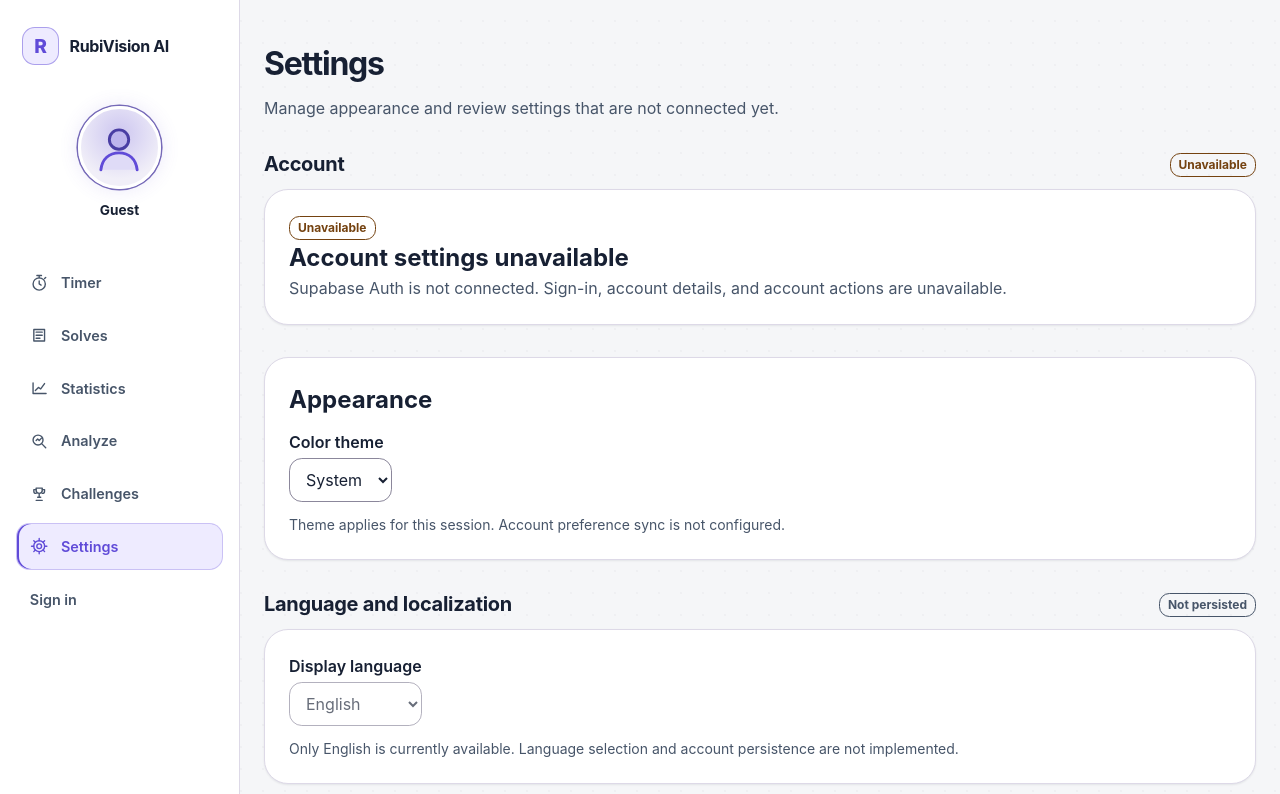
application shell and routes › keeps the Timer shell within the existing dark theme provider
This screenshot has width=1280, height=794.
Select "Dark" in the dropdown labelled "Color theme": (340, 480) x1=289 y1=458 x2=392 y2=502
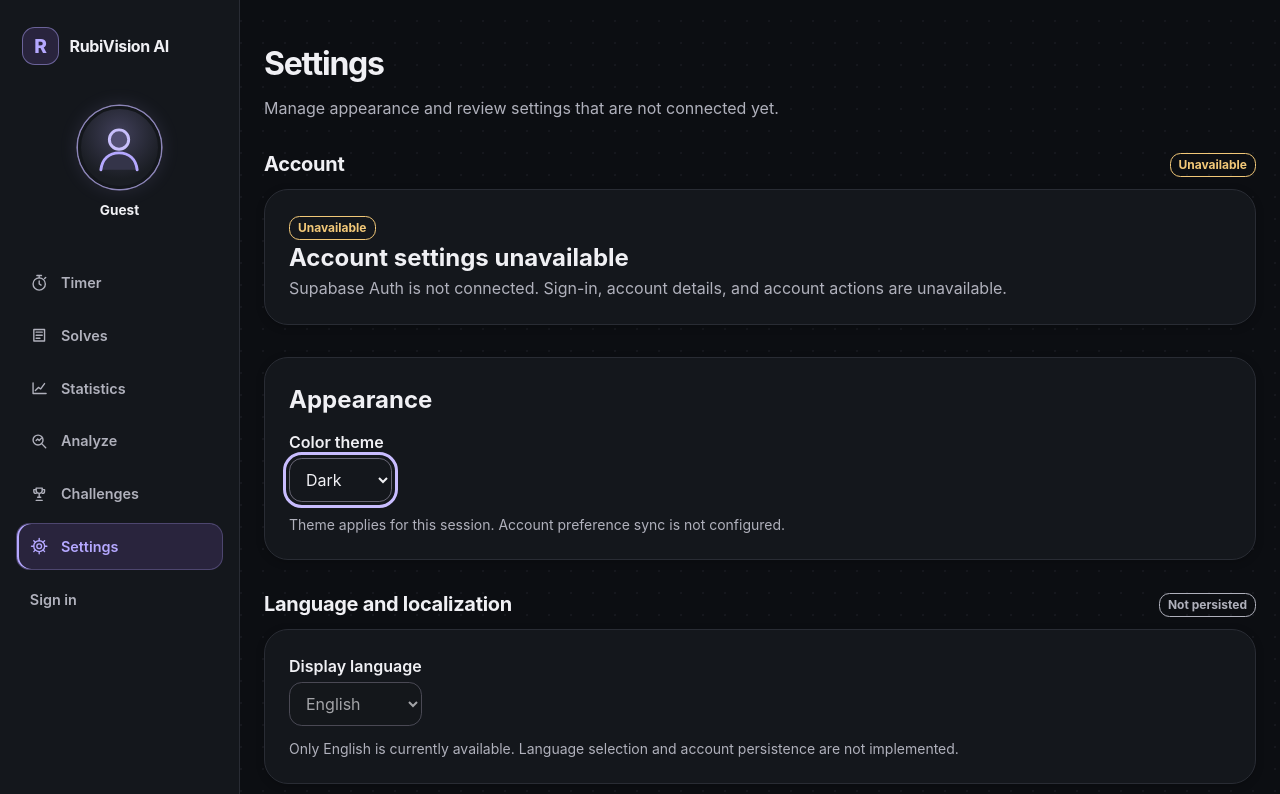
Click the link "Timer": (66, 283) x1=30 y1=274 x2=101 y2=292
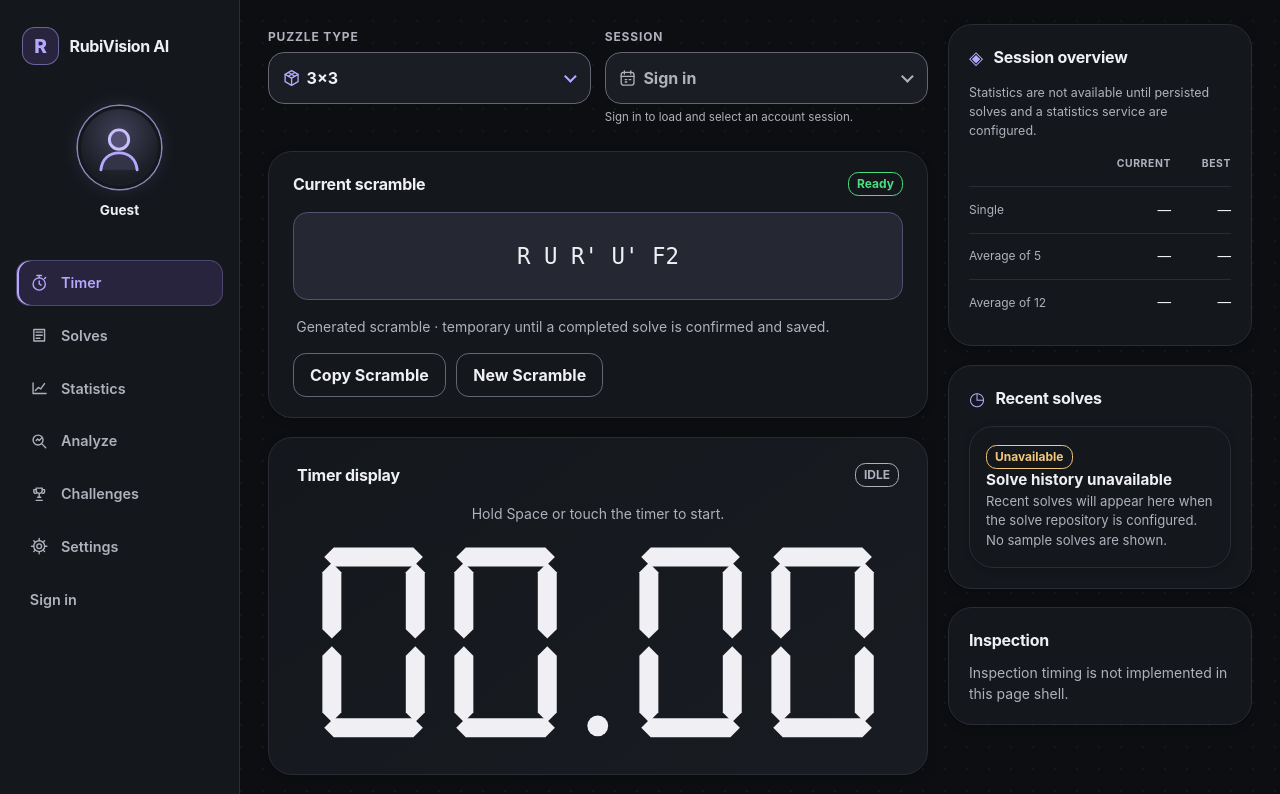
Expected: the dropdown named "Puzzle type" is shown, x1=268 y1=52 x2=591 y2=104
